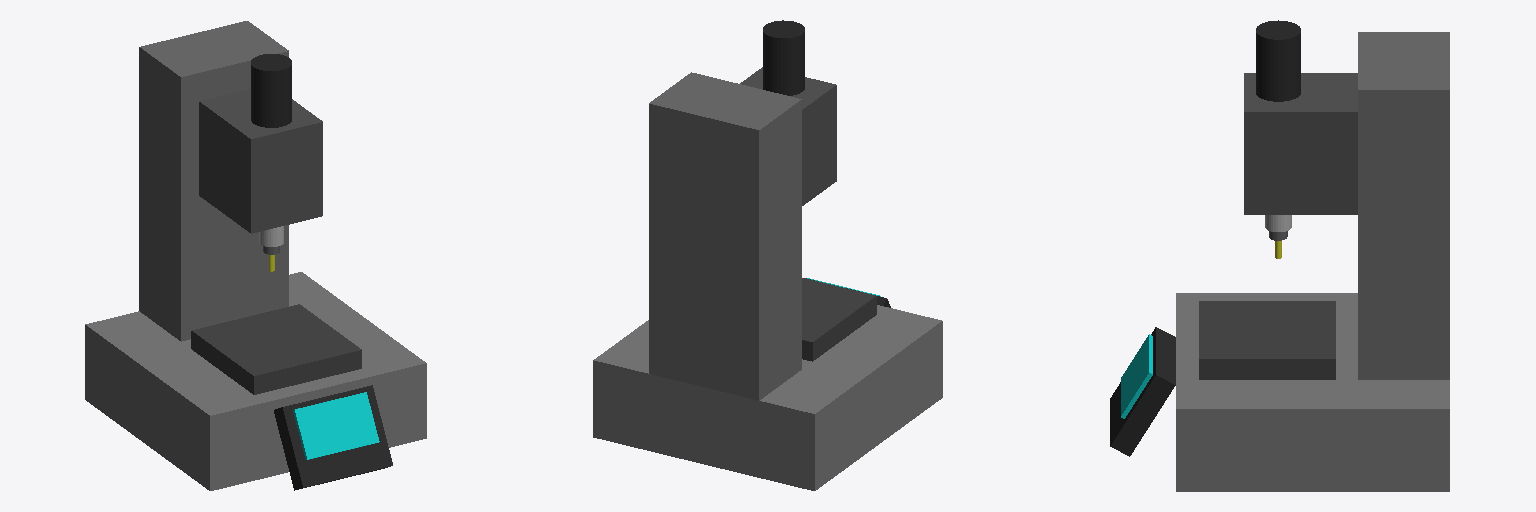
robot.urdf — CNC_Milling_Machine:
<?xml version="1.0" ?>
<robot name="CNC_Milling_Machine">
  <material name="mat_cube_808080ff">
    <color rgba="0.5 0.5 0.5 1"/>
  </material>
  <material name="mat_cube_333333ff">
    <color rgba="0.2 0.2 0.2 1"/>
  </material>
  <material name="mat_cube_1accccff">
    <color rgba="0.1 0.8 0.8 1"/>
  </material>
  <material name="mat_cube_737373ff">
    <color rgba="0.45 0.45 0.45 1"/>
  </material>
  <material name="mat_cube_595959ff">
    <color rgba="0.35 0.35 0.35 1"/>
  </material>
  <material name="mat_cylinder_333333ff">
    <color rgba="0.2 0.2 0.2 1"/>
  </material>
  <material name="mat_cylinder_b2b2b2ff">
    <color rgba="0.7 0.7 0.7 1"/>
  </material>
  <material name="mat_cylinder_666666ff">
    <color rgba="0.4 0.4 0.4 1"/>
  </material>
  <material name="mat_cylinder_cccc33ff">
    <color rgba="0.8 0.8 0.2 1"/>
  </material>
  <material name="mat_cube_4c4c4cff">
    <color rgba="0.3 0.3 0.3 1"/>
  </material>
  <material name="mat_BooleanDifference">
    <color rgba="0.6 0.6 0.6 1"/>
  </material>
  <link name="CNC_Milling_Machine"/>
  <link name="Cube">
    <visual>
      <origin xyz="0 0 0" rpy="0 -0 0"/>
      <geometry>
        <box size="1.2 1.2 0.4"/>
      </geometry>
      <material name="mat_cube_808080ff">
        <color rgba="0.5 0.5 0.5 1"/>
      </material>
    </visual>
    <collision>
      <origin xyz="0 0 0" rpy="0 -0 0"/>
      <geometry>
        <box size="1.2 1.2 0.4"/>
      </geometry>
    </collision>
  </link>
  <link name="Concatenated">
    <visual>
      <origin xyz="0 -0.74330127 0.00179491924" rpy="-0.523598776 -0 0"/>
      <geometry>
        <box size="0.5 0.1 0.4"/>
      </geometry>
      <material name="mat_cube_333333ff">
        <color rgba="0.2 0.2 0.2 1"/>
      </material>
    </visual>
    <collision>
      <origin xyz="0 -0.74330127 0.00179491924" rpy="-0.523598776 -0 0"/>
      <geometry>
        <box size="0.5 0.1 0.4"/>
      </geometry>
    </collision>
    <visual>
      <origin xyz="0 -0.770262794 0.0750961894" rpy="-0.523598776 -0 0"/>
      <geometry>
        <box size="0.4 0.02 0.25"/>
      </geometry>
      <material name="mat_cube_1accccff">
        <color rgba="0.1 0.8 0.8 1"/>
      </material>
    </visual>
    <collision>
      <origin xyz="0 -0.770262794 0.0750961894" rpy="-0.523598776 -0 0"/>
      <geometry>
        <box size="0.4 0.02 0.25"/>
      </geometry>
    </collision>
  </link>
  <link name="Cube_1">
    <visual>
      <origin xyz="0 0.4 0.9" rpy="0 -0 0"/>
      <geometry>
        <box size="0.6 0.4 1.4"/>
      </geometry>
      <material name="mat_cube_737373ff">
        <color rgba="0.45 0.45 0.45 1"/>
      </material>
    </visual>
    <collision>
      <origin xyz="0 0.4 0.9" rpy="0 -0 0"/>
      <geometry>
        <box size="0.6 0.4 1.4"/>
      </geometry>
    </collision>
  </link>
  <link name="Concatenated_1">
    <visual>
      <origin xyz="0 -0.05 1.2" rpy="0 -0 0"/>
      <geometry>
        <box size="0.4 0.5 0.5"/>
      </geometry>
      <material name="mat_cube_595959ff">
        <color rgba="0.35 0.35 0.35 1"/>
      </material>
    </visual>
    <collision>
      <origin xyz="0 -0.05 1.2" rpy="0 -0 0"/>
      <geometry>
        <box size="0.4 0.5 0.5"/>
      </geometry>
    </collision>
    <visual>
      <origin xyz="0 -0.15 1.6" rpy="0 -0 0"/>
      <geometry>
        <cylinder radius="0.1" length="0.3"/>
      </geometry>
      <material name="mat_cylinder_333333ff">
        <color rgba="0.2 0.2 0.2 1"/>
      </material>
    </visual>
    <collision>
      <origin xyz="0 -0.15 1.6" rpy="0 -0 0"/>
      <geometry>
        <cylinder radius="0.1" length="0.3"/>
      </geometry>
    </collision>
  </link>
  <link name="Concatenated_2">
    <visual>
      <origin xyz="0 -0.15 0.875" rpy="3.14159265 -0 0"/>
      <geometry>
        <cylinder radius="0.06" length="0.15"/>
      </geometry>
      <material name="mat_cylinder_b2b2b2ff">
        <color rgba="0.7 0.7 0.7 1"/>
      </material>
    </visual>
    <collision>
      <origin xyz="0 -0.15 0.875" rpy="3.14159265 -0 0"/>
      <geometry>
        <cylinder radius="0.06" length="0.15"/>
      </geometry>
    </collision>
    <visual>
      <origin xyz="0 -0.15 0.775" rpy="3.14159265 -0 0"/>
      <geometry>
        <cylinder radius="0.04" length="0.05"/>
      </geometry>
      <material name="mat_cylinder_666666ff">
        <color rgba="0.4 0.4 0.4 1"/>
      </material>
    </visual>
    <collision>
      <origin xyz="0 -0.15 0.775" rpy="3.14159265 -0 0"/>
      <geometry>
        <cylinder radius="0.04" length="0.05"/>
      </geometry>
    </collision>
    <visual>
      <origin xyz="0 -0.15 0.7" rpy="3.14159265 -0 0"/>
      <geometry>
        <cylinder radius="0.015" length="0.1"/>
      </geometry>
      <material name="mat_cylinder_cccc33ff">
        <color rgba="0.8 0.8 0.2 1"/>
      </material>
    </visual>
    <collision>
      <origin xyz="0 -0.15 0.7" rpy="3.14159265 -0 0"/>
      <geometry>
        <cylinder radius="0.015" length="0.1"/>
      </geometry>
    </collision>
  </link>
  <link name="Cube_2">
    <visual>
      <origin xyz="0 -0.2 0.25" rpy="0 -0 0"/>
      <geometry>
        <box size="0.6 0.6 0.1"/>
      </geometry>
      <material name="mat_cube_4c4c4cff">
        <color rgba="0.3 0.3 0.3 1"/>
      </material>
    </visual>
    <collision>
      <origin xyz="0 -0.2 0.25" rpy="0 -0 0"/>
      <geometry>
        <box size="0.6 0.6 0.1"/>
      </geometry>
    </collision>
  </link>
  <link name="BooleanDifference">
    <visual>
      <origin xyz="0 0 0" rpy="1.57079633 0 0"/>
      <geometry>
        <mesh filename="meshes/BooleanDifference.glb"/>
      </geometry>
      <material name="mat_BooleanDifference">
        <color rgba="0.6 0.6 0.6 1"/>
      </material>
    </visual>
    <collision>
      <origin xyz="0 0 0" rpy="1.57079633 0 0"/>
      <geometry>
        <mesh filename="meshes/BooleanDifference.glb"/>
      </geometry>
    </collision>
  </link>
  <joint name="base_fixed" type="fixed">
    <parent link="CNC_Milling_Machine"/>
    <child link="Cube"/>
    <origin xyz="0 0 0" rpy="0 -0 0"/>
  </joint>
  <joint name="control_panel" type="fixed">
    <parent link="Cube"/>
    <child link="Concatenated"/>
    <origin xyz="0 0 0" rpy="0 -0 0"/>
  </joint>
  <joint name="column" type="fixed">
    <parent link="Cube"/>
    <child link="Cube_1"/>
    <origin xyz="0 0 0" rpy="0 -0 0"/>
  </joint>
  <joint name="z_head" type="prismatic">
    <parent link="Cube_1"/>
    <child link="Concatenated_1"/>
    <origin xyz="0 0 0" rpy="0 -0 0"/>
    <axis xyz="0 0 1"/>
    <limit lower="-0.25" upper="0.1"/>
  </joint>
  <joint name="spindle" type="continuous">
    <parent link="Concatenated_1"/>
    <child link="Concatenated_2"/>
    <origin xyz="0 0 0" rpy="0 -0 0"/>
    <axis xyz="0 0 1"/>
  </joint>
  <joint name="y_saddle" type="prismatic">
    <parent link="Cube"/>
    <child link="Cube_2"/>
    <origin xyz="0 0 0" rpy="0 -0 0"/>
    <axis xyz="0 1 0"/>
    <limit lower="-0.25" upper="0.15"/>
  </joint>
  <joint name="x_table" type="prismatic">
    <parent link="Cube_2"/>
    <child link="BooleanDifference"/>
    <origin xyz="0 0 0" rpy="0 -0 0"/>
    <axis xyz="1 0 0"/>
    <limit lower="-0.4" upper="0.4"/>
  </joint>
</robot>

--- Facts derived from the render (not from the file) ---
Views: 3 orthographic renders of the robot side by side, from view 1: azimuth 30°, elevation 25°; view 2: azimuth 150°, elevation 25°; view 3: azimuth 270°, elevation 25°.
Model CNC_Milling_Machine with 8 links and 7 joints (1 continuous, 3 prismatic, 3 fixed), rooted at CNC_Milling_Machine, posed all joints at 0.
Links seen in each view (by area): view 1: Cube, Cube_1, Concatenated_1, Cube_2, Concatenated, Concatenated_2; view 2: Cube_1, Cube, Concatenated_1, Cube_2; view 3: Cube, Cube_1, Concatenated_1, Cube_2, Concatenated, Concatenated_2.
Boxes of the visible links, <box> form: Cube: <box>85,272,426,490</box>; Cube_1: <box>139,21,288,341</box>; Concatenated_1: <box>199,54,322,233</box>; Cube_2: <box>191,304,361,394</box>; Concatenated: <box>274,385,392,490</box>; Concatenated_2: <box>259,226,283,271</box>; Cube_1: <box>649,72,801,400</box>; Cube: <box>593,305,942,490</box>; Concatenated_1: <box>740,20,836,205</box>; Cube_2: <box>802,278,876,361</box>; Cube: <box>1176,293,1449,491</box>; Cube_1: <box>1358,32,1449,379</box>; Concatenated_1: <box>1244,20,1357,214</box>; Cube_2: <box>1199,301,1335,379</box>; Concatenated: <box>1110,327,1175,456</box>; Concatenated_2: <box>1265,215,1291,258</box>.
Bounding box of the posed robot: 1.2 × 1.49 × 1.95 m (x, y, z).
Meshes: 1 distinct files referenced, 0 mesh visuals loaded (none loaded); not drawn: 1 (reference not matched to a file when rendering).
